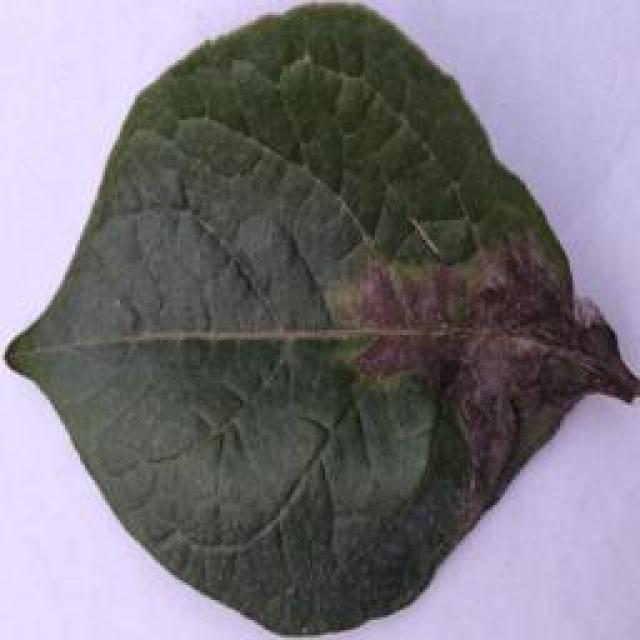Potato_Late_Blight: (3, 14, 630, 635)
